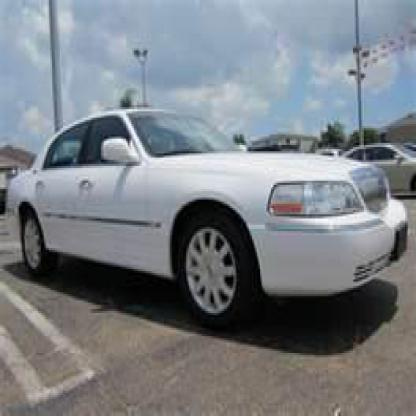Vehicle: (5, 107, 414, 334)
